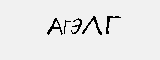А: (45, 16, 63, 37)
Г: (105, 13, 125, 36), (63, 18, 72, 38)
Л: (82, 15, 104, 40)
Э: (71, 17, 83, 37)
